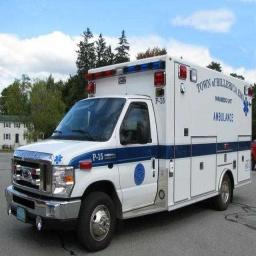ambulance: (6, 56, 251, 250)
